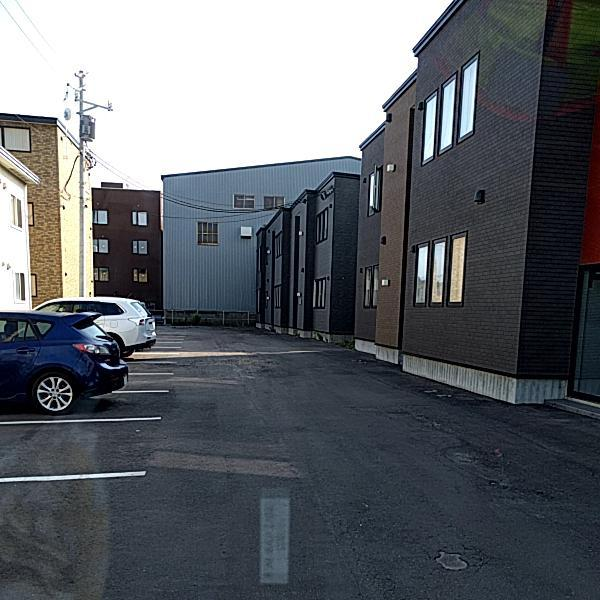D40: (425, 544, 477, 573)
